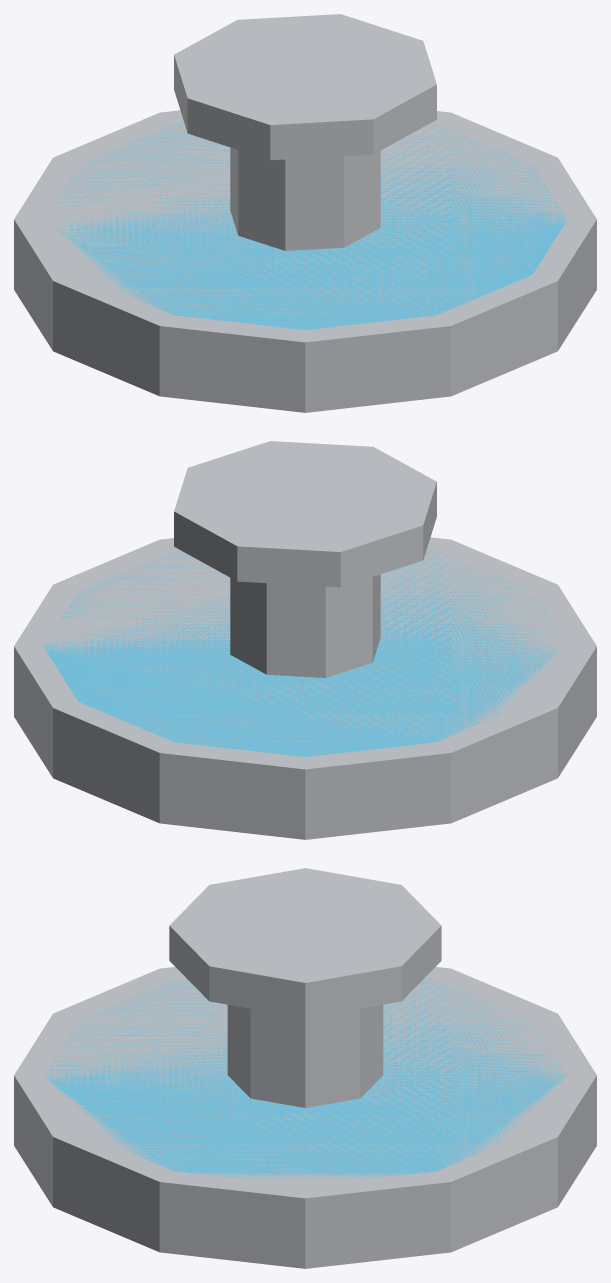
Rendered from prop_fountain.glb.
3 renders of one model, top to bottom at view 1: azimuth 30°, elevation 25°; view 2: azimuth 150°, elevation 25°; view 3: azimuth 270°, elevation 25°, orthographic.
Parts seen in each view (by area): view 1: Cylinder, Cylinder.001, Cylinder.003, Cylinder.002; view 2: Cylinder, Cylinder.001, Cylinder.003, Cylinder.002; view 3: Cylinder, Cylinder.001, Cylinder.003, Cylinder.002.
Part boxes in pixels (x1,y1,x2,y2): Cylinder: (14,110,596,412); Cylinder.001: (47,122,566,329); Cylinder.003: (174,14,436,160); Cylinder.002: (230,147,380,250); Cylinder: (14,537,596,839); Cylinder.001: (43,549,560,756); Cylinder.003: (174,441,436,587); Cylinder.002: (230,574,380,677); Cylinder: (14,967,596,1268); Cylinder.001: (44,978,566,1183); Cylinder.003: (169,868,441,1018); Cylinder.002: (227,1004,383,1107).
Size of the model in its own units: 6 by 2.5 by 6.
